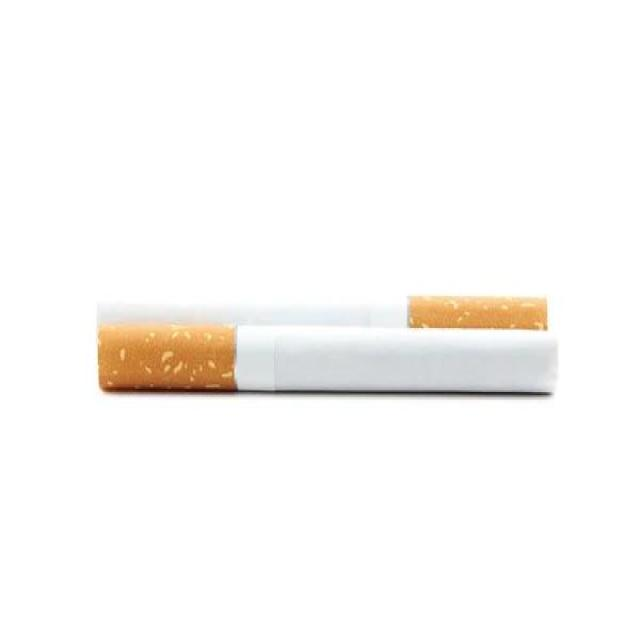cigarette: (97, 320, 560, 400), (97, 294, 549, 331)
